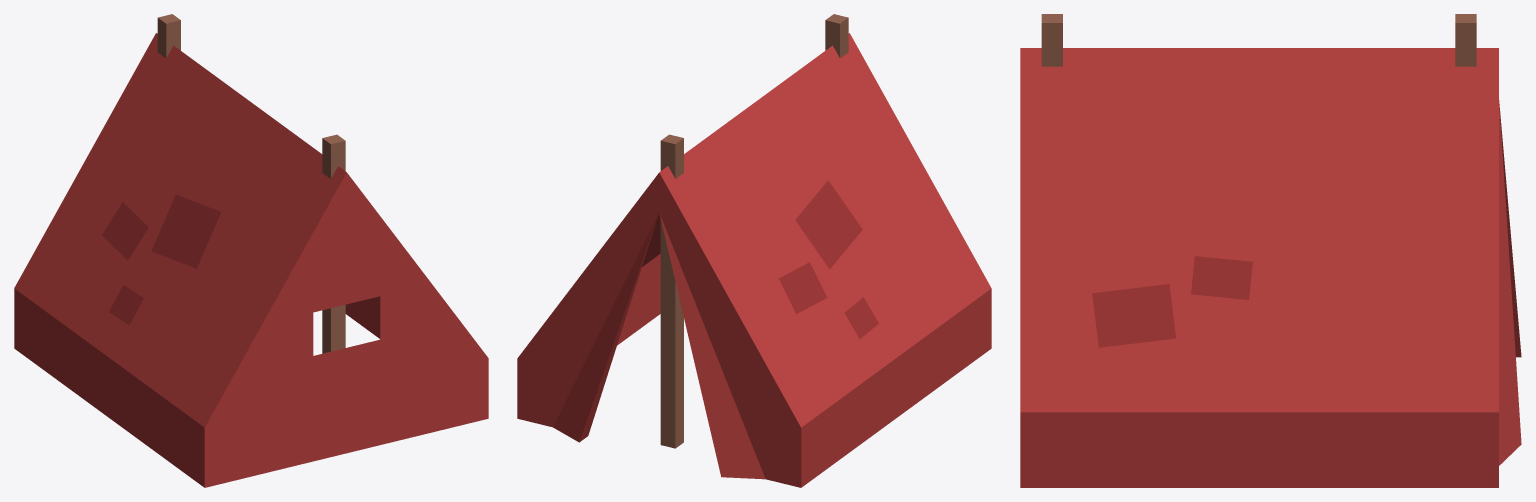
Rendered from tent_smallOpen.glb.
3 renders of one model, left to right at view 1: azimuth 30°, elevation 25°; view 2: azimuth 150°, elevation 25°; view 3: azimuth 270°, elevation 25°, orthographic. The views are drawn at different scales.
Visible parts, largest first — view 1: tent_smallOpen; view 2: tent_smallOpen; view 3: tent_smallOpen.
Part boxes in pixels (box(x1,y1,x2,y2)): tent_smallOpen: box(14, 14, 488, 487); tent_smallOpen: box(517, 14, 991, 487); tent_smallOpen: box(1020, 14, 1521, 487).
Size of the model in its own units: 0.5476 by 0.5611 by 0.6664.
